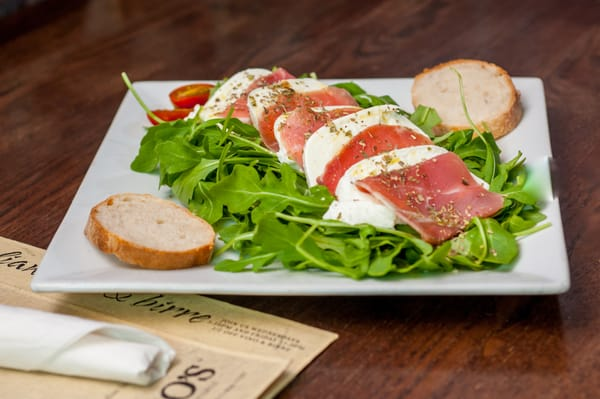soup: (409, 59, 524, 141)
